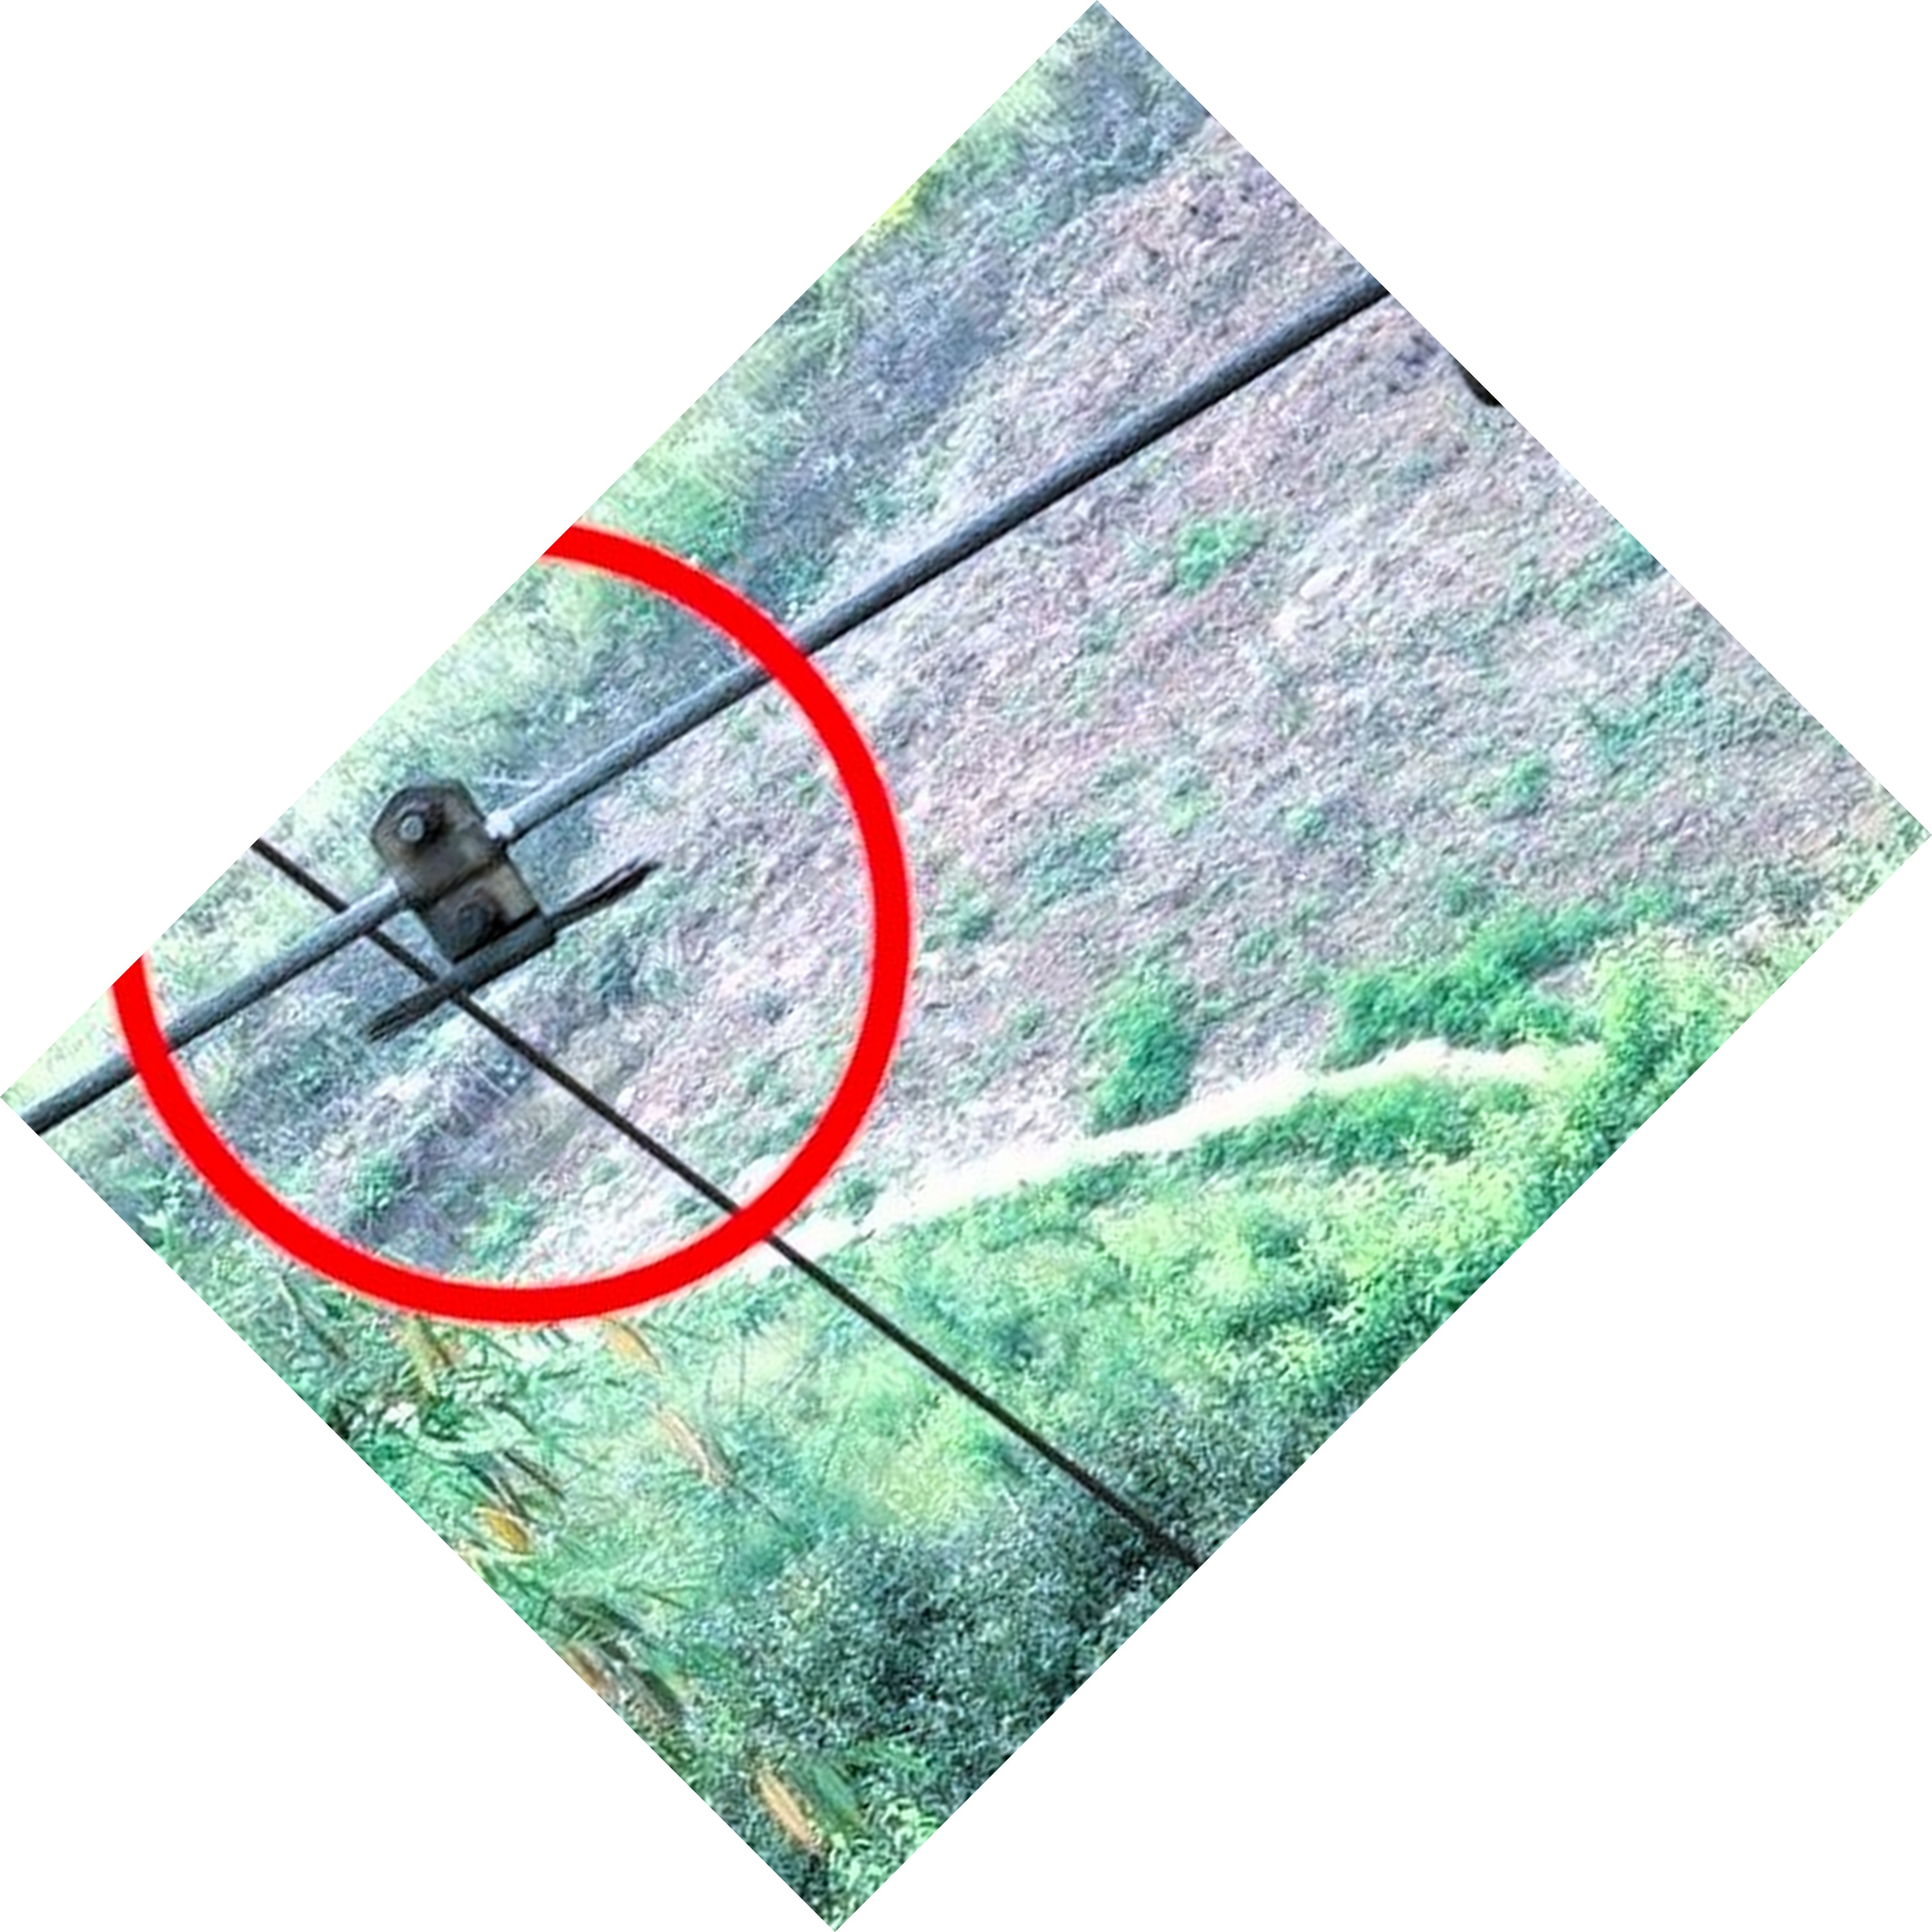Damage of shockproof hammer: (308, 743, 692, 1079)
